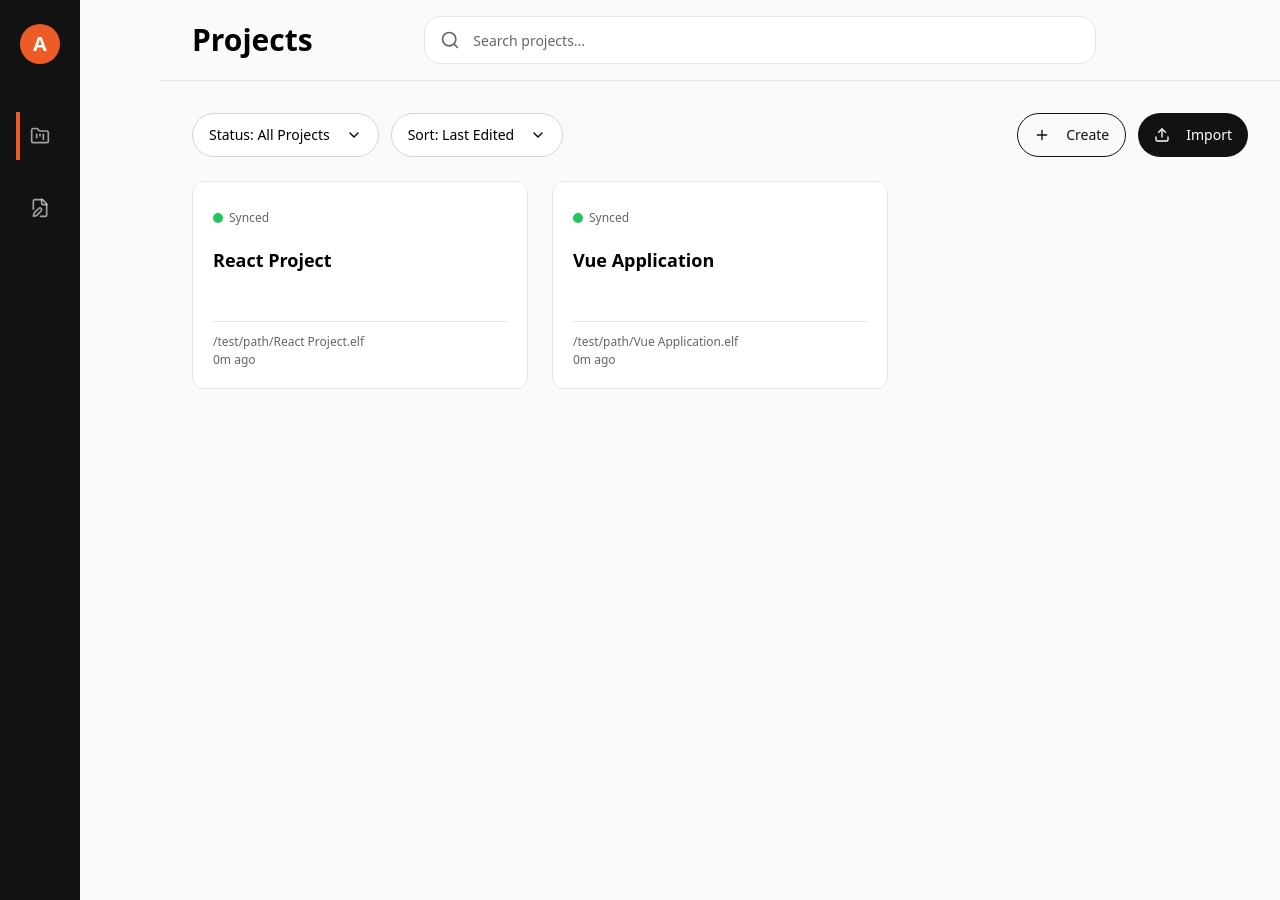
Projects Component › Integration - Search + Filter › should apply both search and filter
Expected: the heading "React Project" is shown, [213, 248, 332, 272]
Type "React" into the field with placeholder "Search projects..." at (760, 40), box [424, 16, 1096, 64]
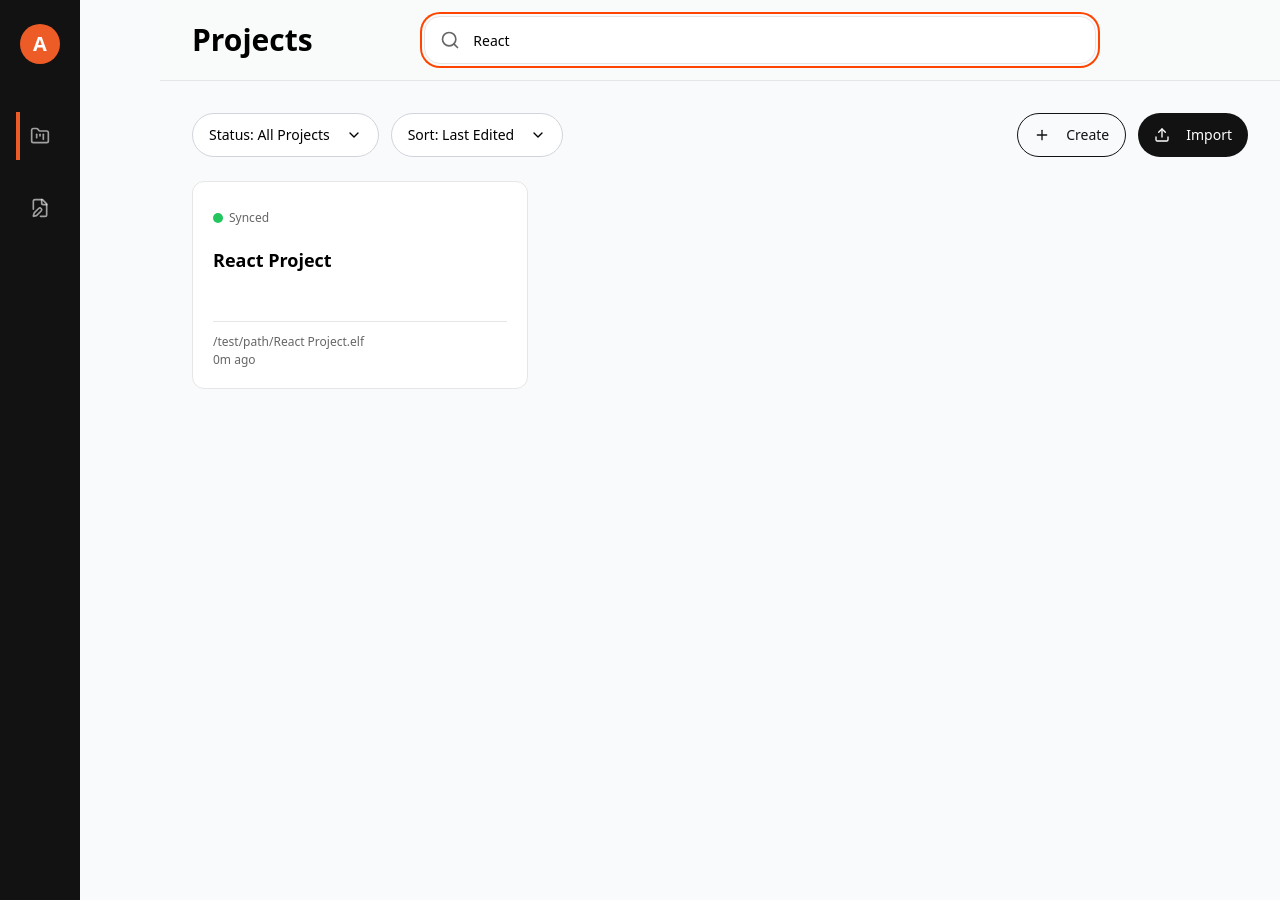
Expected: the heading "React Project" is shown, [213, 248, 332, 272]
Now the heading "Vue Application" is gone
